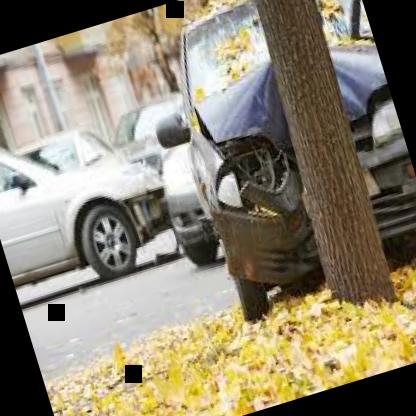accident: (121, 0, 416, 343)
